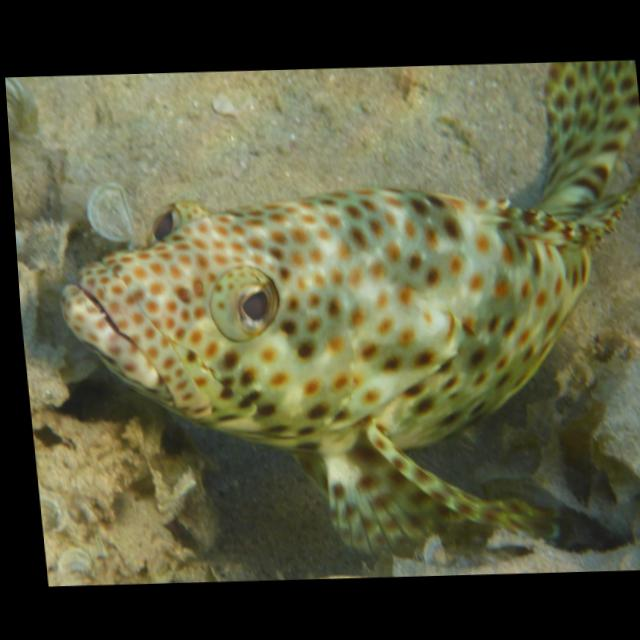Groupers: (33, 54, 640, 560)
